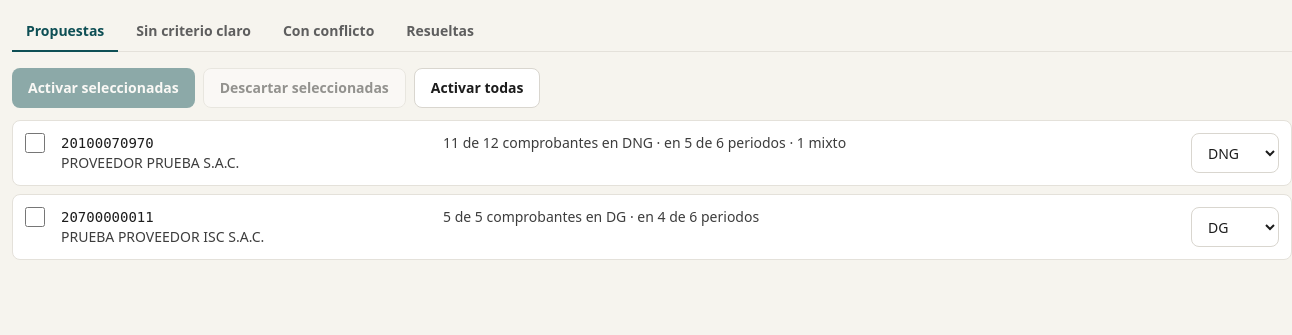
Test: <CandidatasImportadas /> · activar y descartar (CA-3, D-5) › 409 cliente_archivado al activar: el mensaje de solo lectura y sin anuncio de éxito
Click the checkbox named "Seleccionar candidata de 20100070970" at (35, 143), box [25, 133, 45, 153]
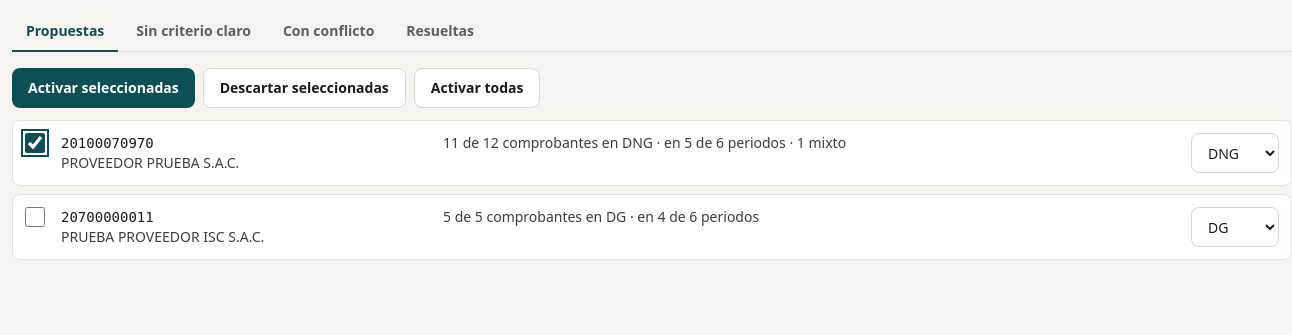
Click the button "Activar seleccionadas" at (103, 88), box [12, 68, 195, 108]
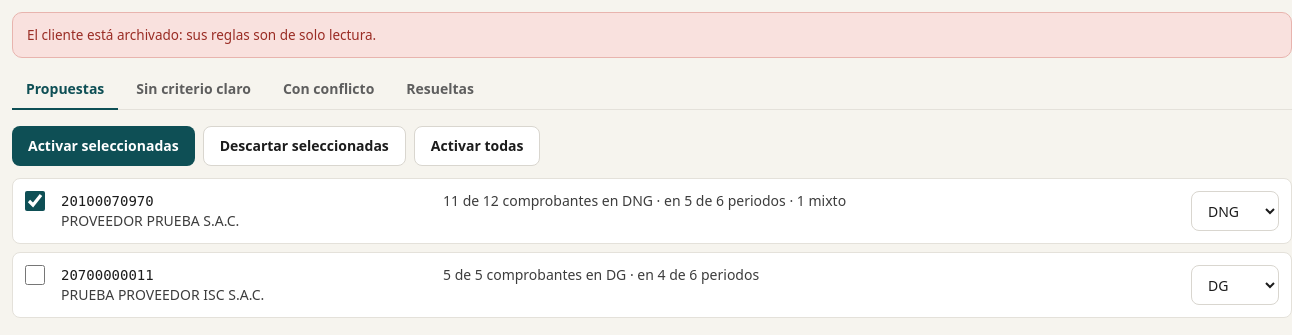
Now the message reads "El cliente está archivado: sus reglas son de solo lectura.", box [27, 26, 376, 44]
